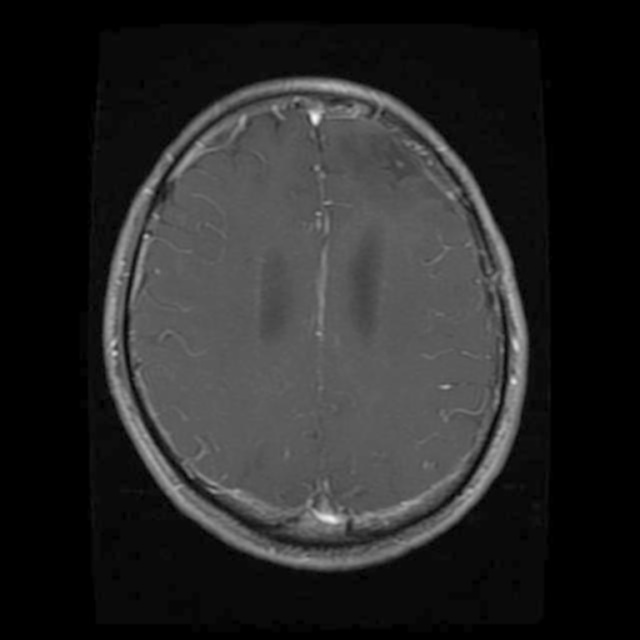pituitary tumor: (365, 144, 433, 195)
